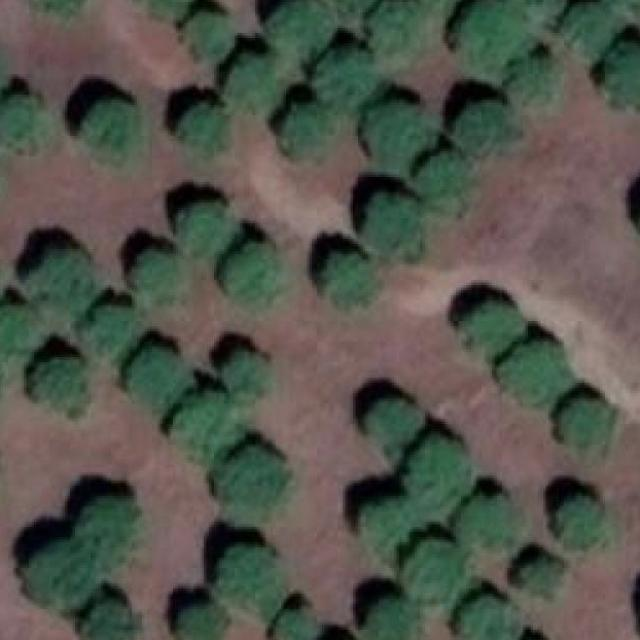Tree: (24, 537, 106, 603), (22, 239, 92, 315), (456, 0, 529, 69), (358, 188, 425, 262), (73, 98, 147, 164), (80, 488, 147, 554), (222, 444, 287, 512), (168, 396, 232, 465), (505, 339, 569, 408), (459, 486, 522, 556), (214, 537, 277, 606), (459, 293, 524, 359), (507, 46, 569, 115), (406, 438, 471, 502), (317, 38, 379, 105), (78, 296, 138, 364), (398, 540, 464, 601), (366, 97, 432, 157), (360, 488, 421, 552), (361, 394, 427, 453), (125, 242, 185, 304), (552, 391, 614, 451), (170, 196, 227, 260), (268, 0, 329, 58), (224, 242, 282, 302), (125, 347, 186, 404), (564, 0, 623, 58), (0, 88, 54, 150), (77, 585, 137, 640), (221, 54, 282, 107), (317, 254, 375, 309), (32, 349, 85, 409), (557, 496, 613, 551), (178, 98, 228, 159), (0, 297, 47, 361), (374, 0, 427, 54), (515, 547, 566, 603), (463, 591, 521, 640), (415, 149, 468, 202), (600, 40, 640, 110), (278, 98, 332, 148), (459, 95, 509, 149), (183, 2, 233, 55), (224, 347, 270, 399), (366, 591, 413, 638), (173, 602, 224, 640), (276, 601, 320, 640)
